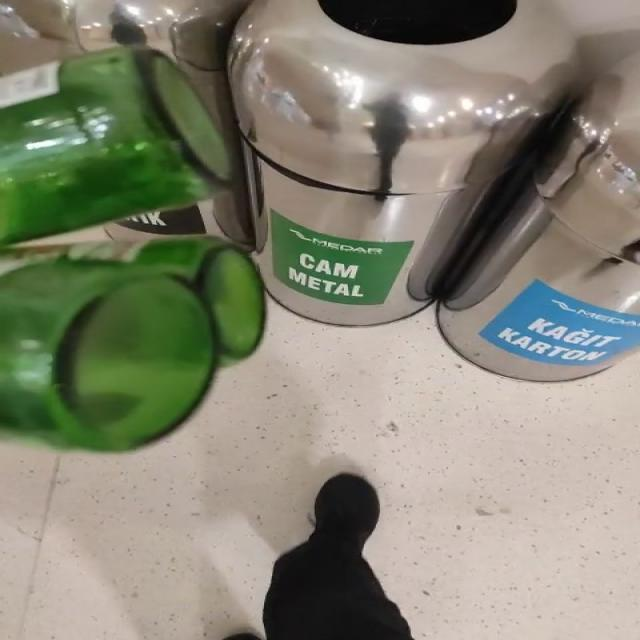Glass: (1, 237, 264, 451), (0, 47, 233, 243)
